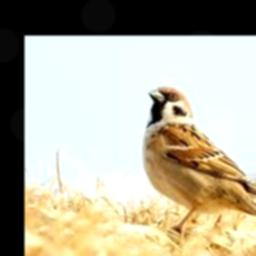Sparrow: (144, 87, 256, 234)
